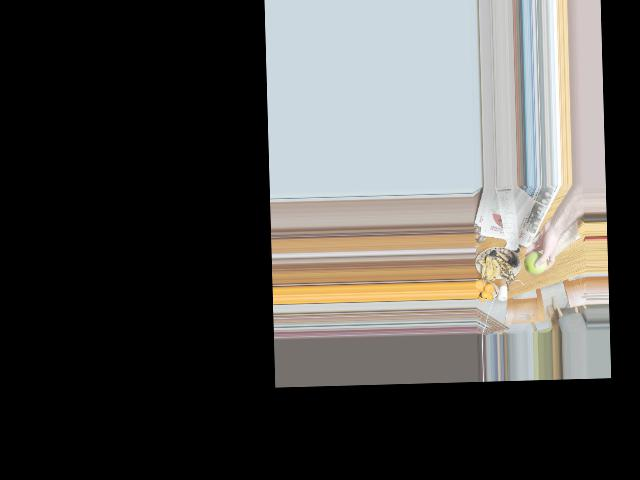apple: (523, 249, 544, 276)
